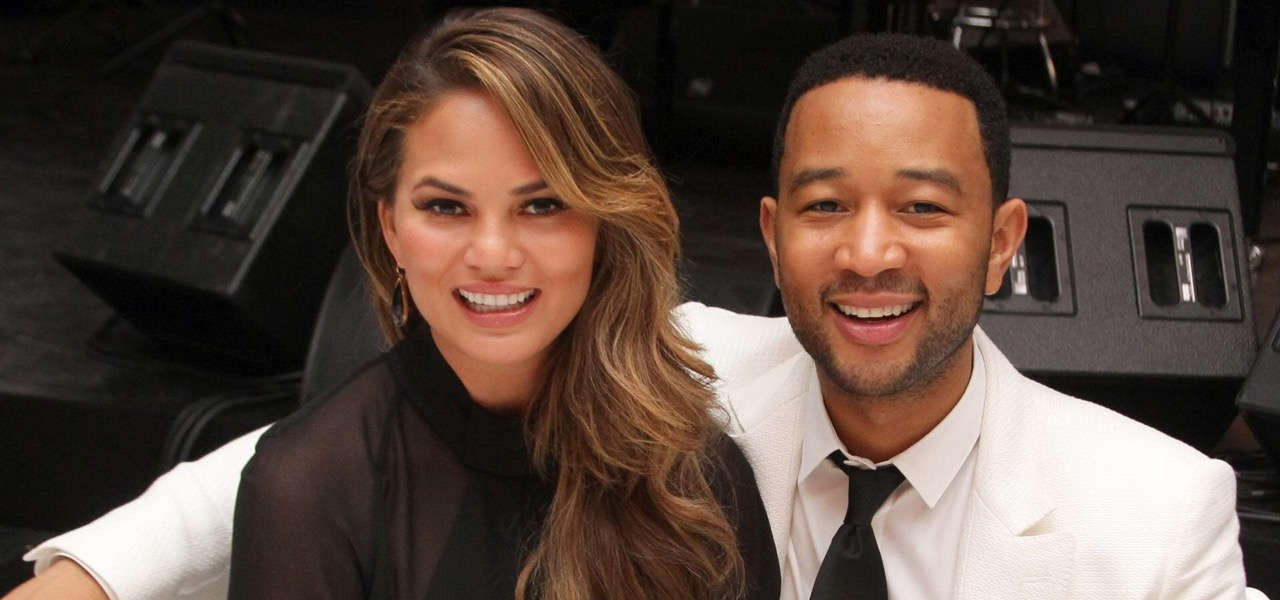face_no_mask: (348, 11, 637, 367), (762, 33, 1026, 397)
